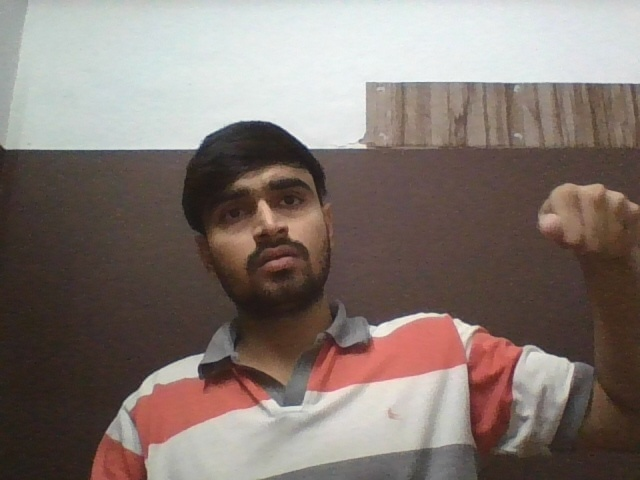Yes: (535, 182, 640, 259)
